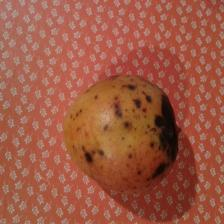Mango Semirotten: (64, 74, 182, 187)
